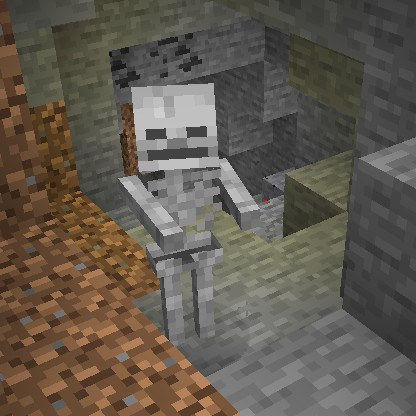skeleton: (120, 80, 261, 339)
